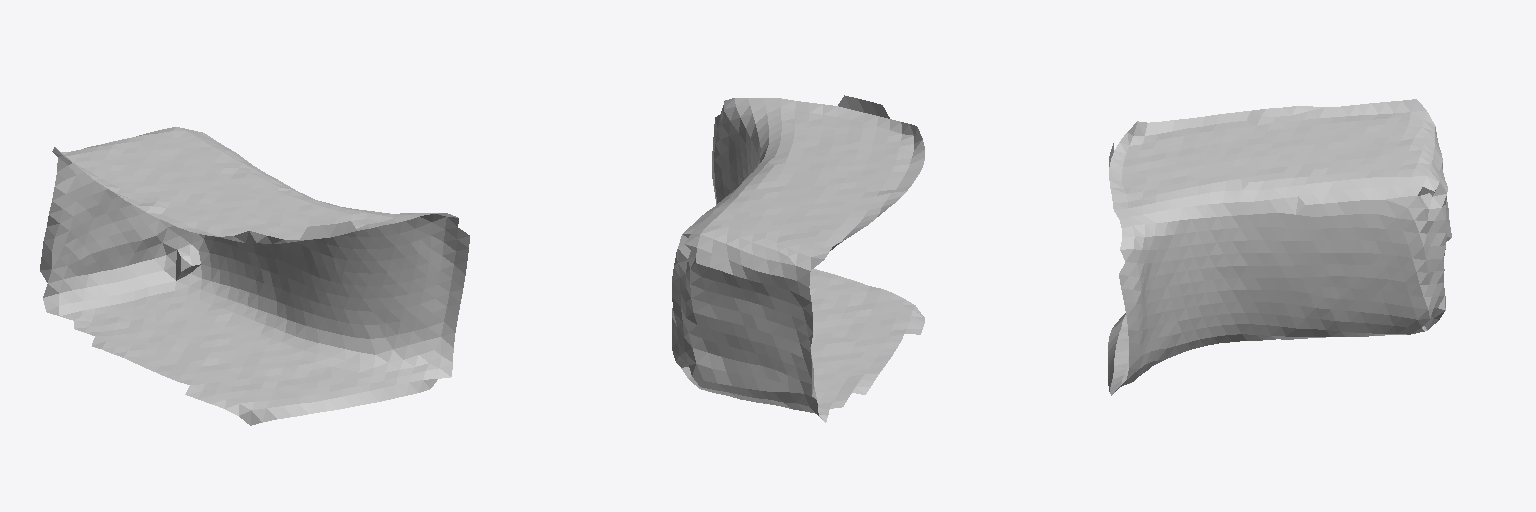
File: trigger.obj
3 views of the same model, side by side, from view 1: azimuth 30°, elevation 25°; view 2: azimuth 150°, elevation 25°; view 3: azimuth 270°, elevation 25° (orthographic).
Parts seen in each view (by area): view 1: trigger_Bosch_PSR1800_LI-2.001; view 2: trigger_Bosch_PSR1800_LI-2.001; view 3: trigger_Bosch_PSR1800_LI-2.001.
Part boxes in pixels (left/top/right/bottom): trigger_Bosch_PSR1800_LI-2.001: left=40, top=127, right=469, bottom=425; trigger_Bosch_PSR1800_LI-2.001: left=672, top=95, right=924, bottom=422; trigger_Bosch_PSR1800_LI-2.001: left=1108, top=99, right=1451, bottom=395.
Size of the model in its own units: 0.0196 by 0.0137 by 0.0219.